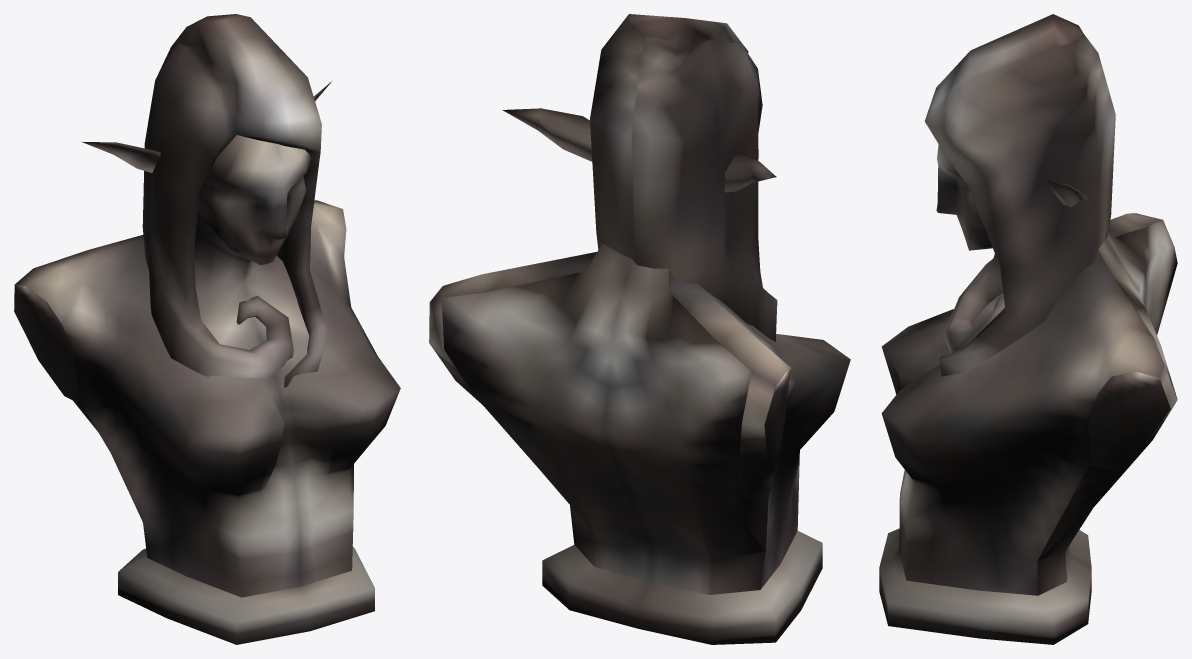
The model's file is SM_zhucheng_diaosuo02.FBX.
3 renders of one model, left to right at view 1: azimuth 30°, elevation 25°; view 2: azimuth 150°, elevation 25°; view 3: azimuth 270°, elevation 25°, orthographic. The views are drawn at different scales.
Parts seen in each view (by area): view 1: SM_zhucheng_diaosuo02; view 2: SM_zhucheng_diaosuo02; view 3: SM_zhucheng_diaosuo02.
Part boxes in pixels (x1,y1,x2,y2): SM_zhucheng_diaosuo02: [14, 14, 400, 644]; SM_zhucheng_diaosuo02: [429, 14, 850, 644]; SM_zhucheng_diaosuo02: [879, 14, 1177, 644].
Size of the model in its own units: 80.36 by 134 by 63.88.
